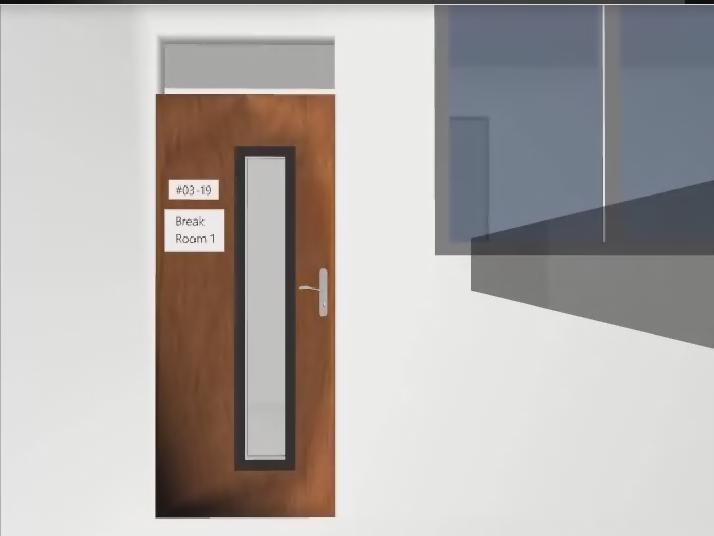door: (156, 94, 335, 516)
